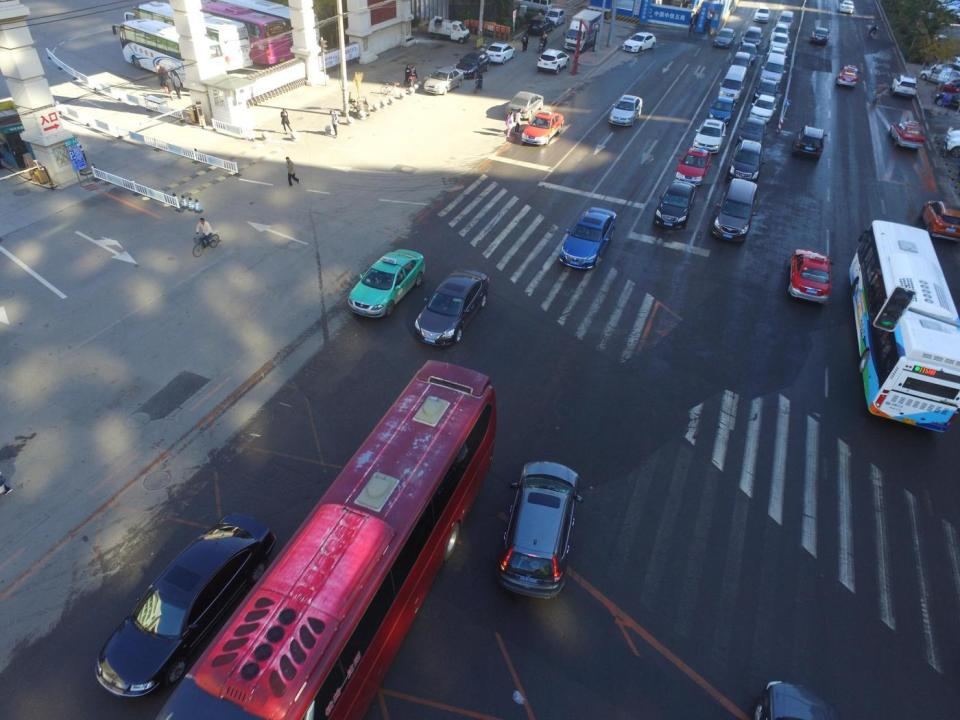bus: (156, 357, 499, 720), (848, 217, 959, 437), (115, 10, 235, 87), (135, 1, 252, 73), (215, 0, 330, 53), (200, 0, 295, 64)
car: (85, 503, 278, 696), (496, 462, 583, 600), (412, 264, 490, 348), (349, 246, 427, 320), (556, 207, 617, 271), (710, 178, 760, 240), (787, 245, 834, 304), (652, 178, 697, 229), (919, 198, 960, 240), (672, 144, 712, 186), (729, 139, 764, 185), (522, 112, 565, 147), (791, 125, 828, 161), (422, 66, 466, 96), (691, 118, 728, 152), (607, 93, 643, 127), (456, 49, 493, 78), (889, 120, 926, 149), (707, 90, 734, 127), (536, 48, 572, 74), (749, 94, 778, 125), (738, 115, 766, 147), (623, 29, 657, 53), (890, 74, 918, 100), (486, 39, 516, 63), (526, 13, 556, 34), (752, 79, 779, 101), (836, 64, 860, 88), (740, 24, 762, 50), (712, 26, 736, 48), (809, 26, 831, 46), (729, 50, 751, 69), (546, 6, 566, 26), (768, 32, 789, 51), (739, 40, 757, 62), (776, 8, 794, 30), (768, 46, 788, 65), (771, 22, 789, 40), (752, 8, 770, 24), (838, 0, 855, 15)
truck: (562, 6, 605, 52), (430, 15, 472, 44)
van: (719, 63, 746, 104), (759, 52, 786, 82), (520, 0, 551, 16)
